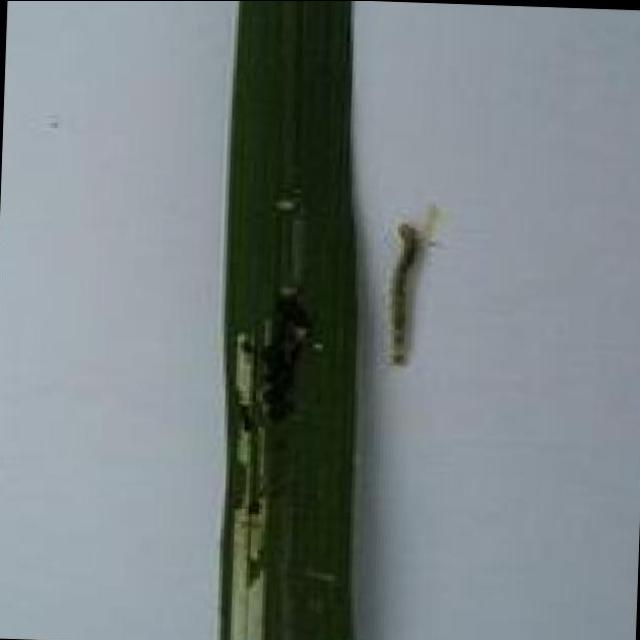leaf folder: (386, 205, 439, 365)
